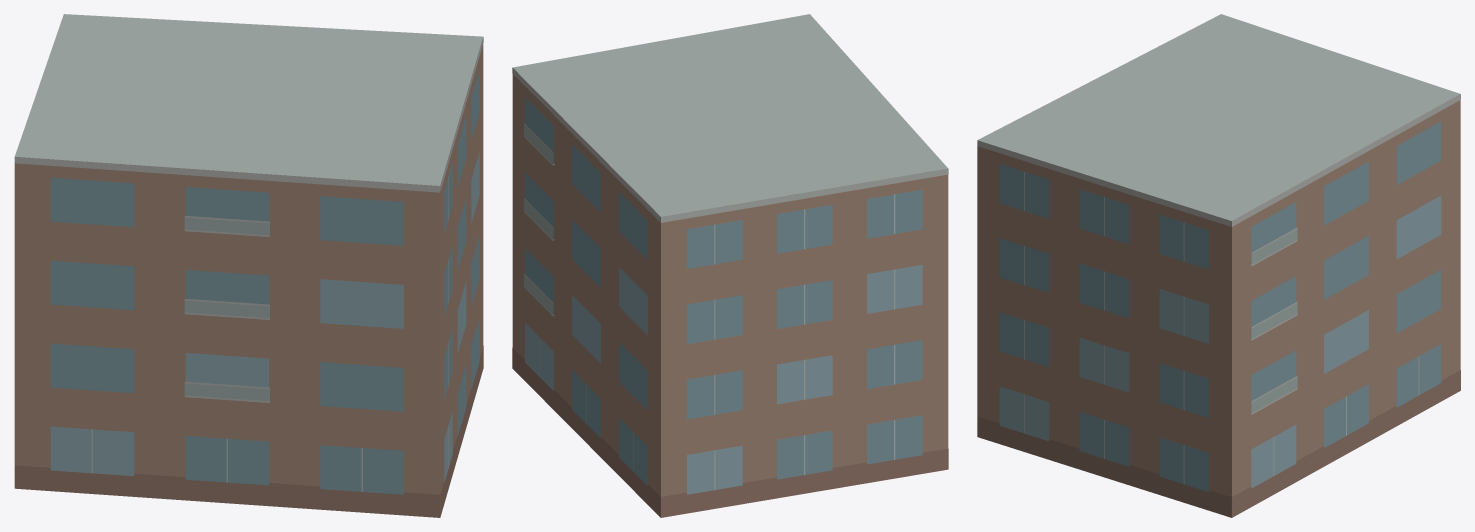
The model's file is survey-upis-32858263.glb.
3 views of the same model, side by side, from view 1: azimuth 30°, elevation 25°; view 2: azimuth 150°, elevation 25°; view 3: azimuth 270°, elevation 25° (orthographic). The views are drawn at different scales.
Visible parts, largest first — view 1: survey-upis-32858263.tmp; view 2: survey-upis-32858263.tmp; view 3: survey-upis-32858263.tmp.
Boxes of the visible parts, x1=… form: survey-upis-32858263.tmp: x1=14, y1=14, x2=483, y2=517; survey-upis-32858263.tmp: x1=512, y1=14, x2=948, y2=517; survey-upis-32858263.tmp: x1=977, y1=14, x2=1460, y2=517.
Bounding box in the file's own units: 18.35 × 12.25 × 18.1.
